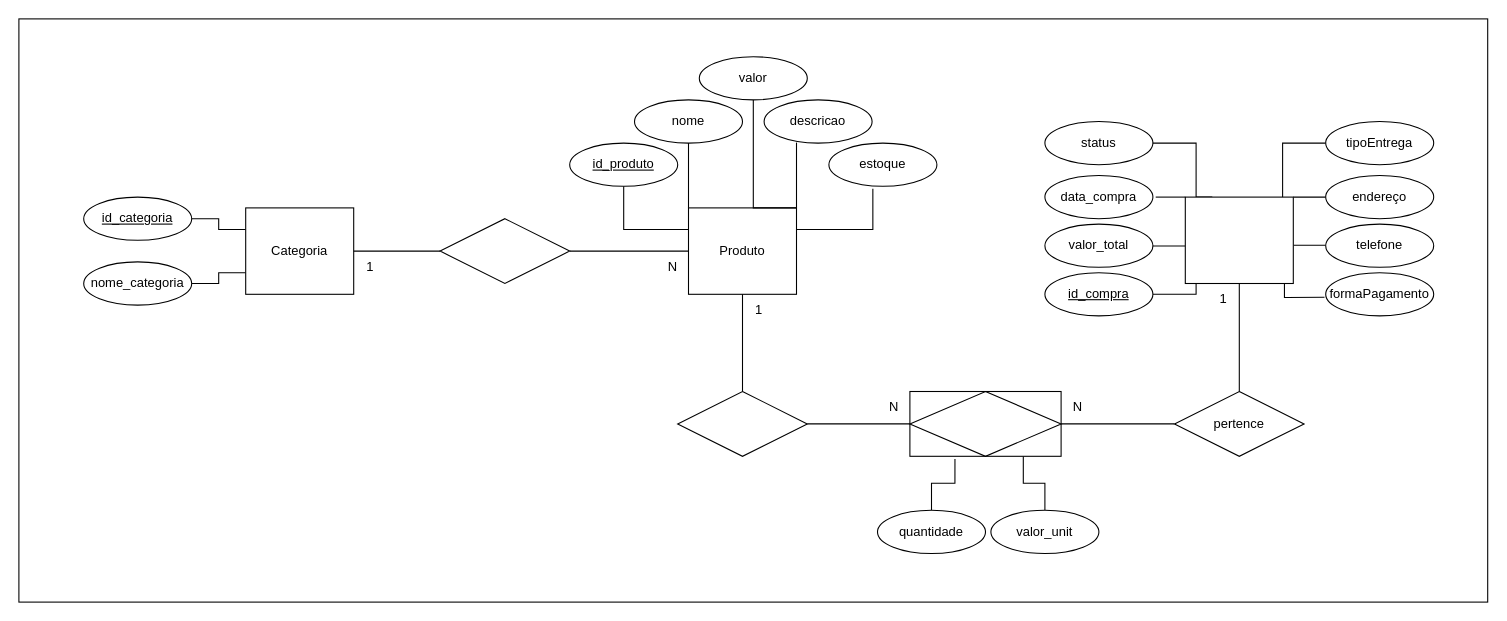
Image size: 1507x621. Some labels were removed from this diagram. Here are the shapes that lost their labels. From the top down, the centre of each, then its label:
point (504, 251): prod_categoria
point (1238, 240): Compra
point (742, 423): participa
point (985, 423): produto_compra
